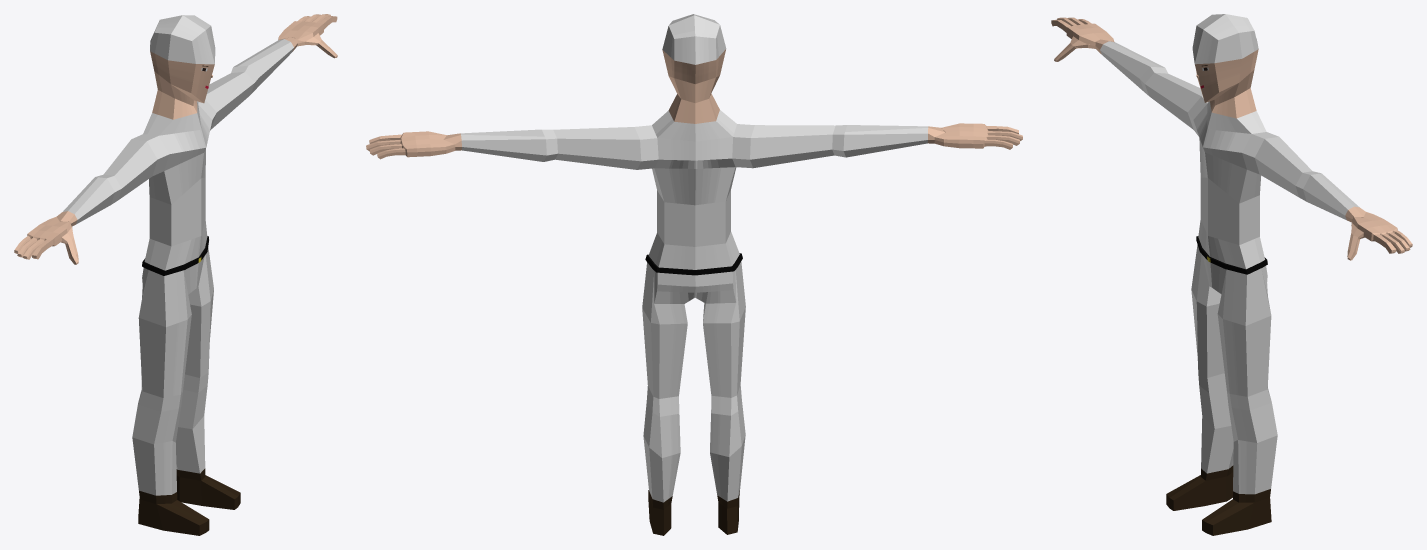
File: Character_Player.fbx
3 views of the same model, side by side, from view 1: azimuth 30°, elevation 25°; view 2: azimuth 150°, elevation 25°; view 3: azimuth 270°, elevation 25° (orthographic).
Visible parts, largest first — view 1: Cube; view 2: Cube; view 3: Cube.
Boxes of the visible parts, left/top/right/bottom form: Cube: left=14, top=14, right=337, bottom=535; Cube: left=366, top=14, right=1022, bottom=535; Cube: left=1051, top=14, right=1412, bottom=535.
Bounding box in the file's own units: 2638 × 2615 × 1716.
